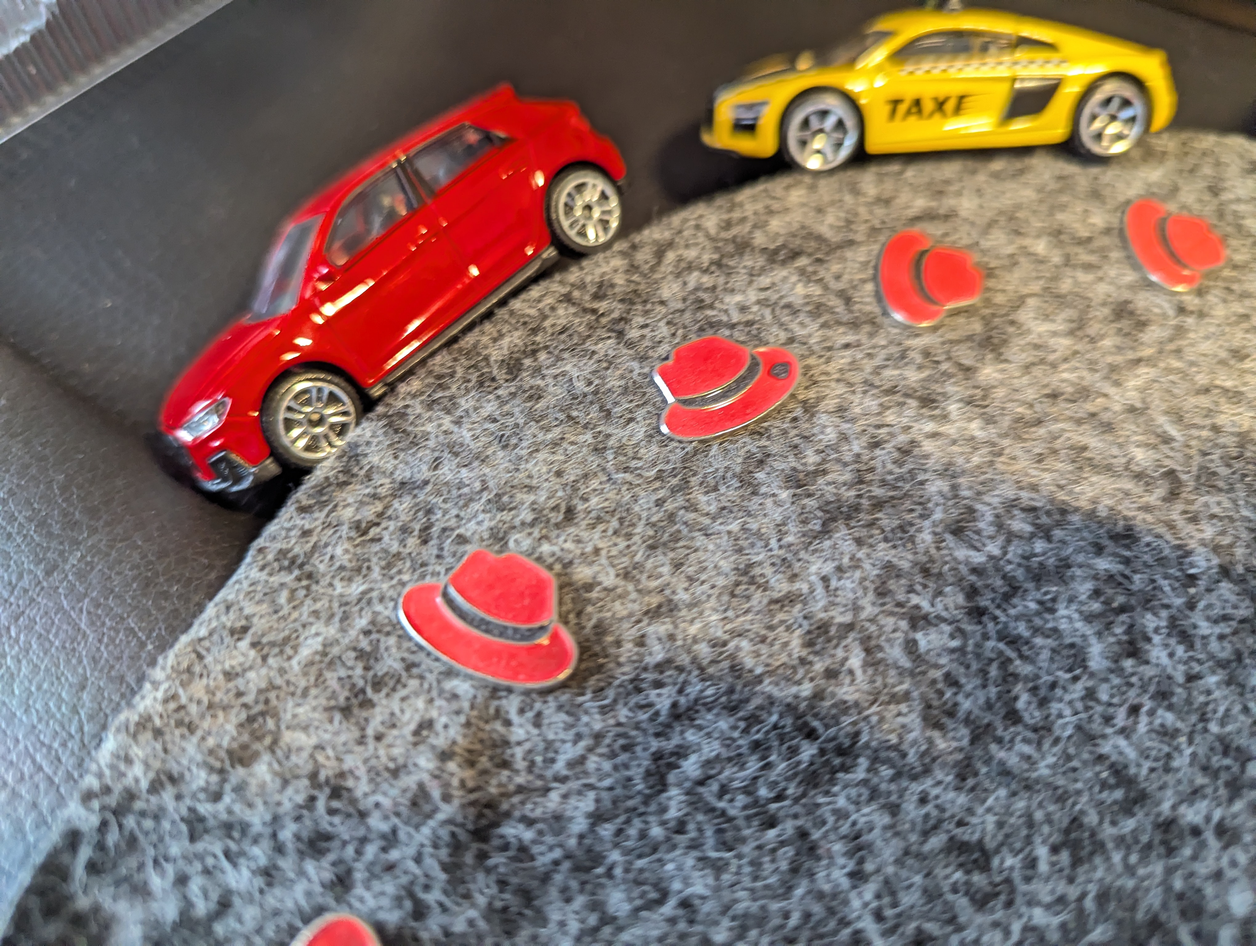Car: (112, 61, 759, 539), (654, 0, 1214, 188)
Red-Hat: (382, 521, 621, 708), (634, 317, 846, 454), (856, 208, 1027, 336), (1107, 175, 1242, 333)
Scratch: (760, 351, 803, 387)
